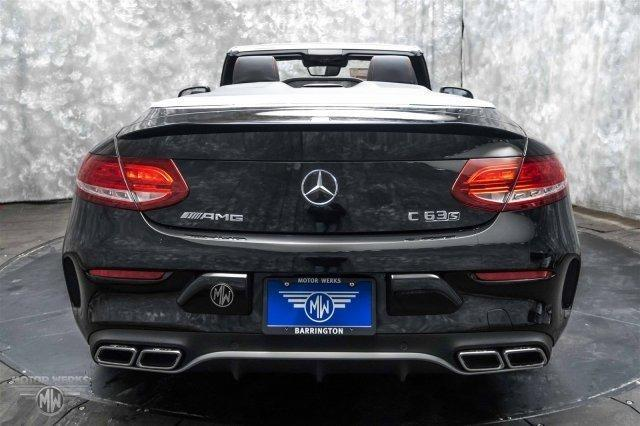C63AMG: (53, 37, 594, 392)
